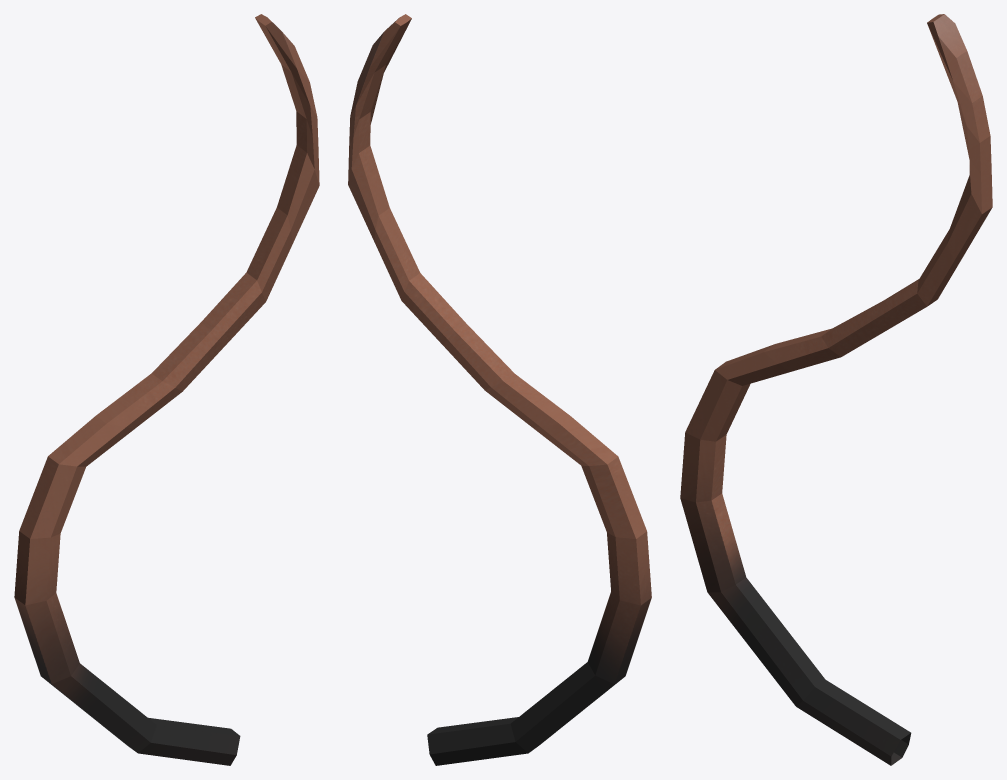
Rendered from rat_king_tail (1).fbx.
3 views of the same model, side by side, from view 1: azimuth 30°, elevation 25°; view 2: azimuth 150°, elevation 25°; view 3: azimuth 330°, elevation 25° (orthographic). The views are drawn at different scales.
Visible parts, largest first — view 1: tail; view 2: tail; view 3: tail.
Part boxes in pixels (bbox=[...]): tail: bbox=[14, 14, 319, 765]; tail: bbox=[348, 14, 651, 765]; tail: bbox=[680, 14, 992, 765].
Bounding box in the file's own units: 182 × 434 × 17.34.
